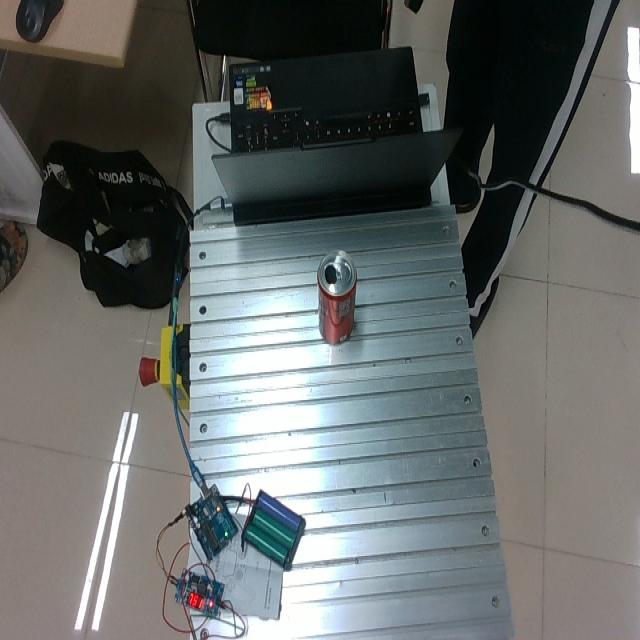coca: (316, 248, 358, 345)
